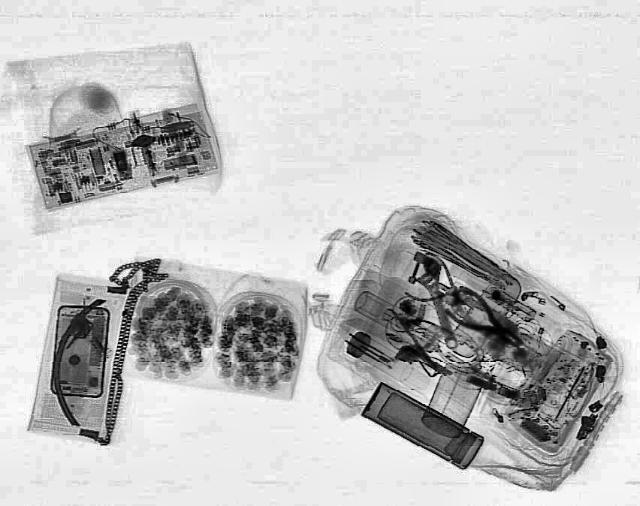Pliers: (385, 246, 493, 320), (432, 284, 536, 356)
Wrench: (402, 250, 472, 350)
